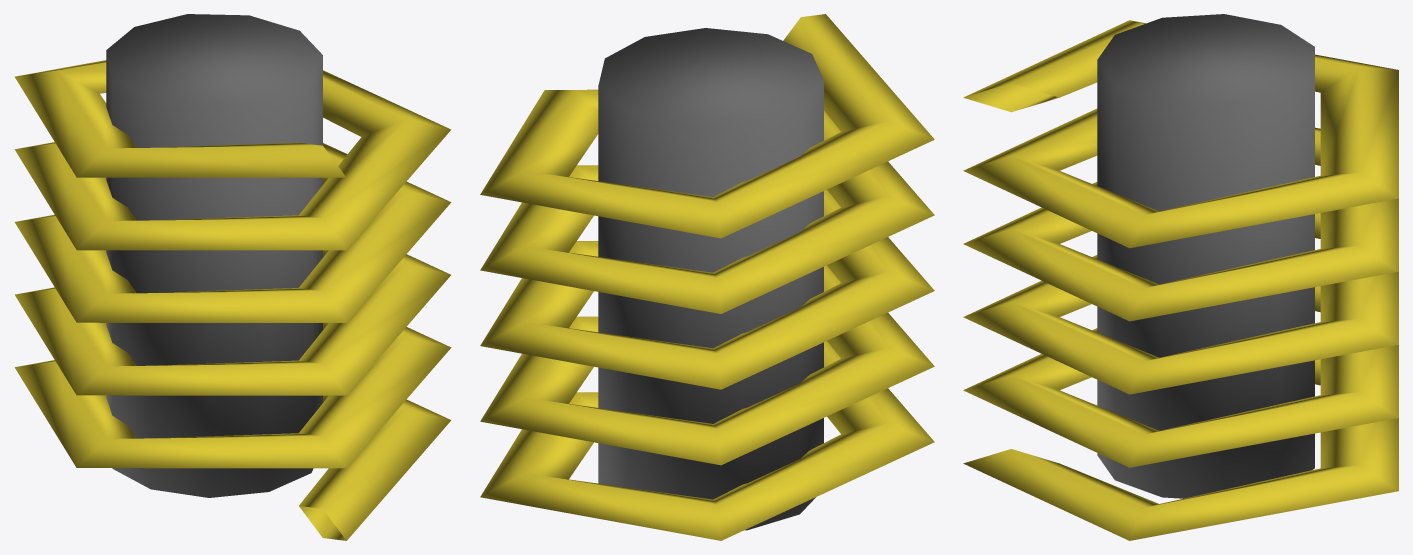
File: Suspension.fbx
3 views of the same model, side by side, from view 1: azimuth 30°, elevation 25°; view 2: azimuth 150°, elevation 25°; view 3: azimuth 270°, elevation 25° (orthographic). The views are drawn at different scales.
Parts seen in each view (by area): view 1: coil, core; view 2: coil, core; view 3: coil, core.
Boxes of the visible parts, bbox=[...] form: coil: bbox=[14, 60, 451, 540]; core: bbox=[106, 14, 322, 497]; coil: bbox=[480, 14, 934, 540]; core: bbox=[598, 28, 823, 530]; coil: bbox=[963, 20, 1398, 540]; core: bbox=[1097, 14, 1314, 498].
Bounding box in the file's own units: 1 × 1 × 1.04.
